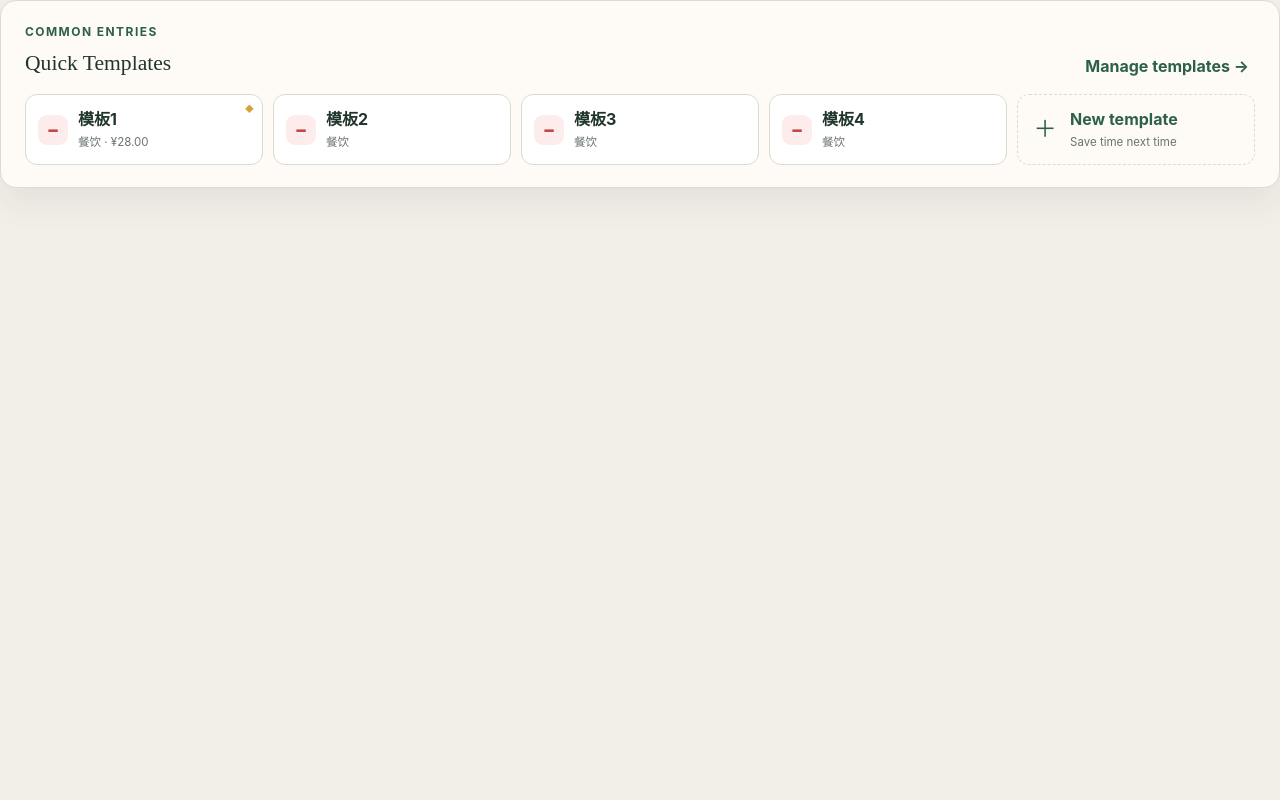
QuickTemplates › 管理弹层中可以把刚保存的账目转成模板草稿
Click the button "Manage templates →": (1167, 66) [1079,53,1255,79]
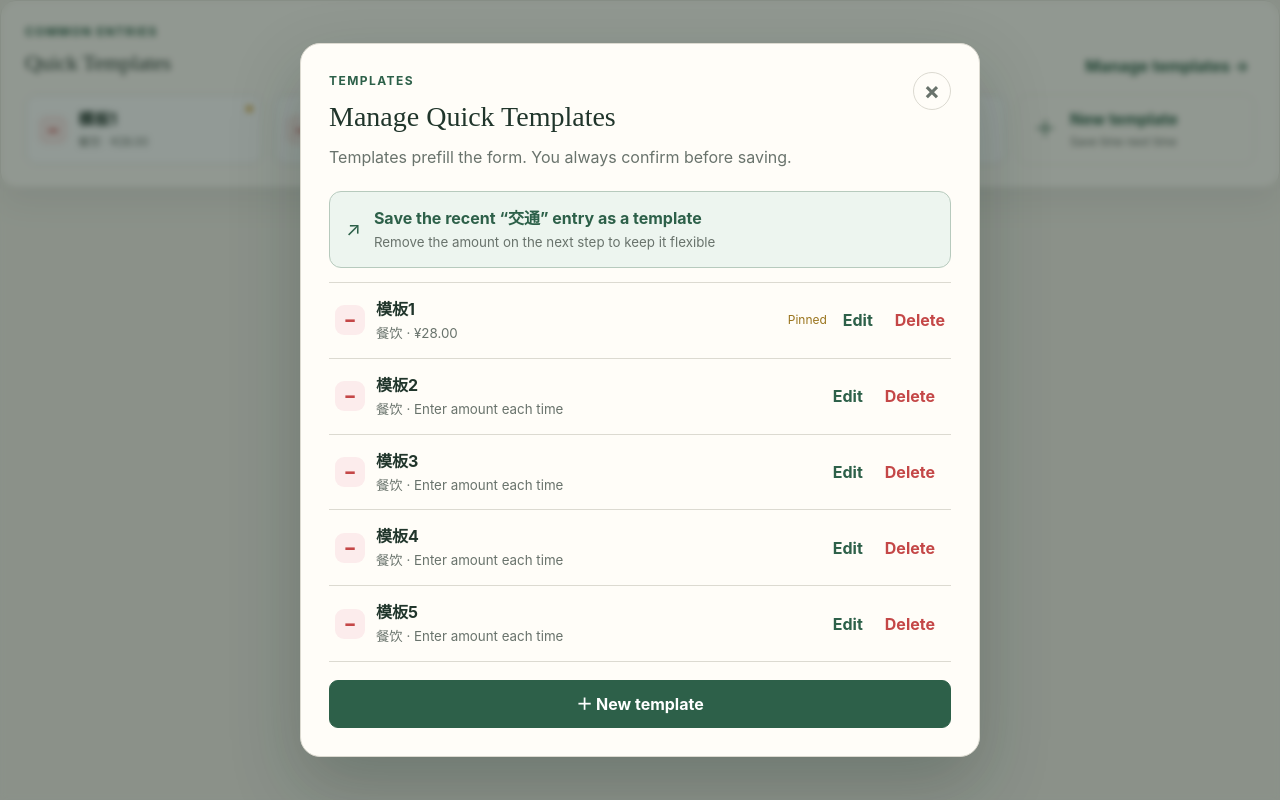
Click the button with class "save-last-template": (640, 229) [329,190,951,268]
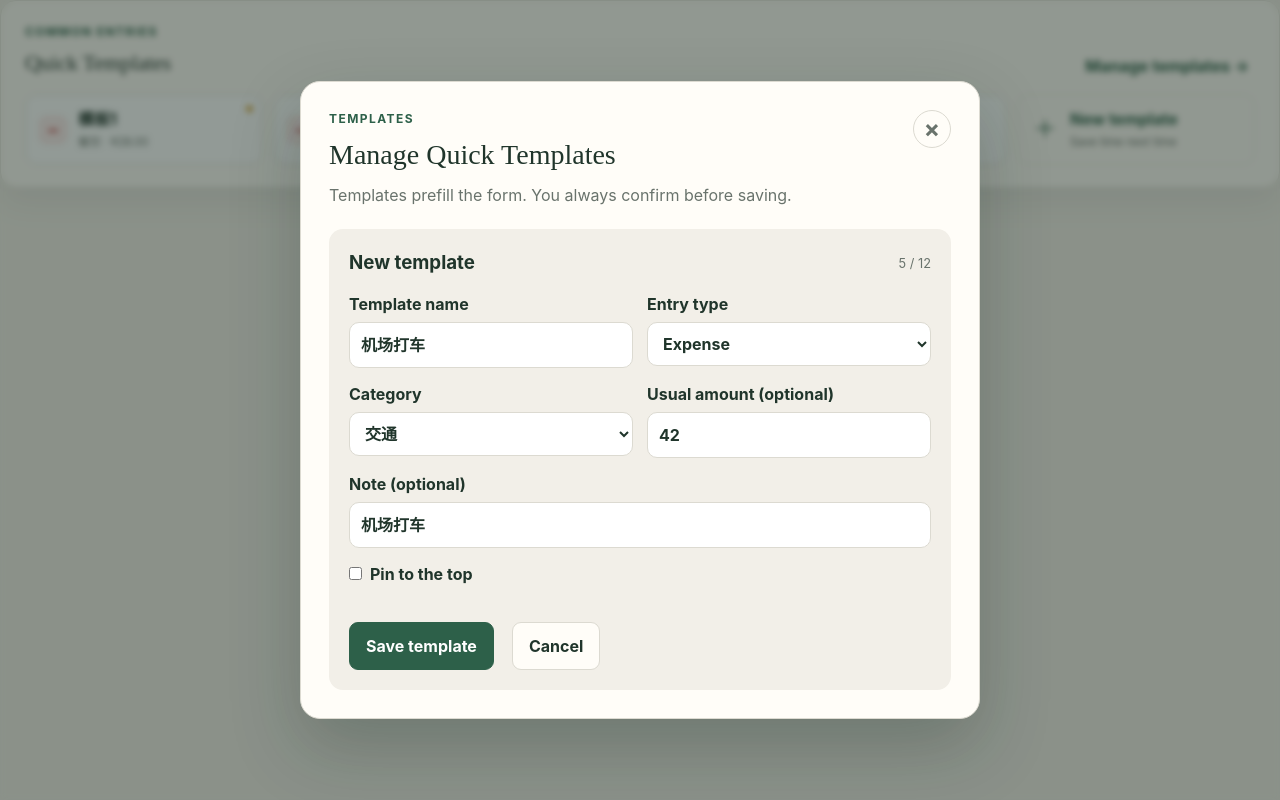
Expected: the field labelled "Template name" holds "机场打车", [349,322,633,368]
Expected: the number field labelled "Usual amount (optional)" holds "42", [647,412,931,458]
Expected: the dropdown labelled "Category" shows "交通", [349,412,633,456]
